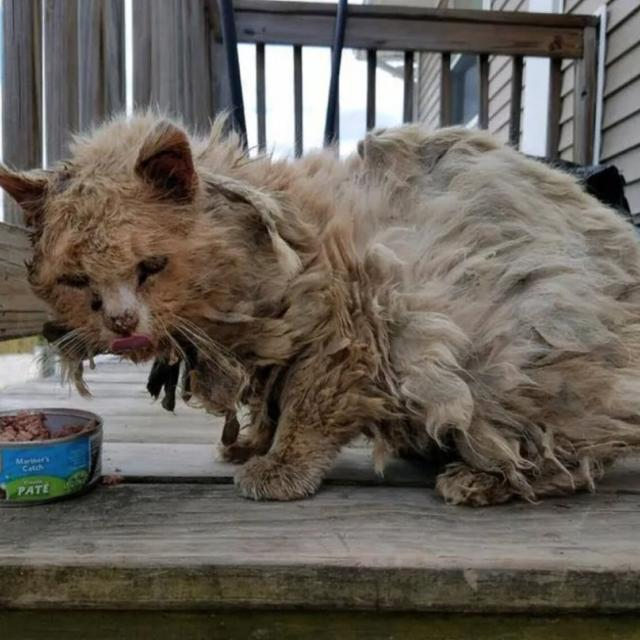animals: (0, 121, 640, 507)
